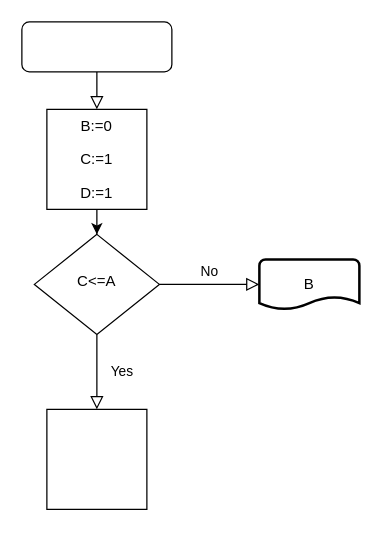
The diagram is 383 pixels wide and 538 high, and some of its shapes have lost their labels. Each missing label, with the centre of its shape:
"B:=B+1 D:=D+2 C:=C+D" belongs at (96,458).
"INICIO" belongs at (96,46).
